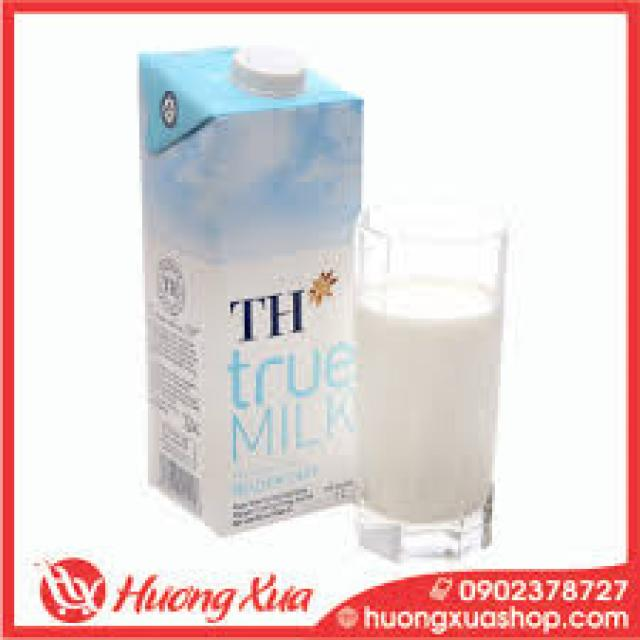non_white_jug: (130, 17, 362, 512)
